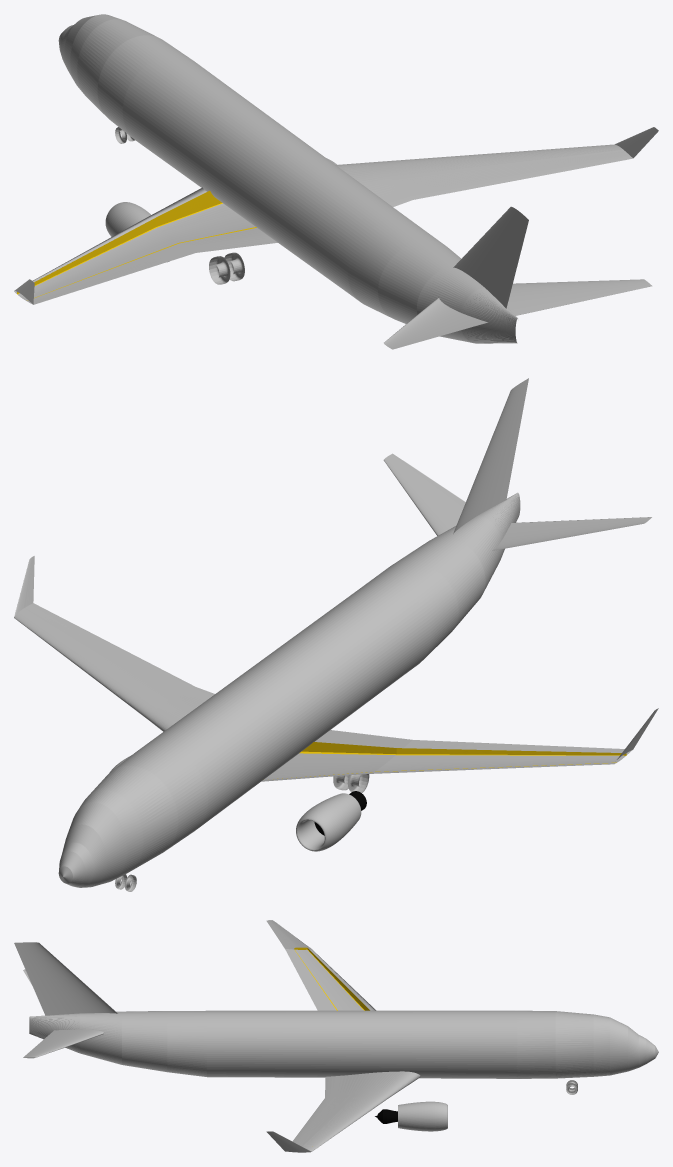
Rendered from Embraer_190.gltf.
3 renders of one model, top to bottom at view 1: azimuth 30°, elevation 25°; view 2: azimuth 150°, elevation 25°; view 3: azimuth 270°, elevation 25°, orthographic. The views are drawn at different scales.
Visible parts, largest first — view 1: Renderer Node; view 2: Renderer Node; view 3: Renderer Node.
Part boxes in pixels (x1,y1,x2,y2): Renderer Node: [14, 14, 658, 349]; Renderer Node: [14, 378, 658, 891]; Renderer Node: [14, 920, 658, 1152].
Bounding box in the file's own units: 28.72 × 9.85 × 37.12.
